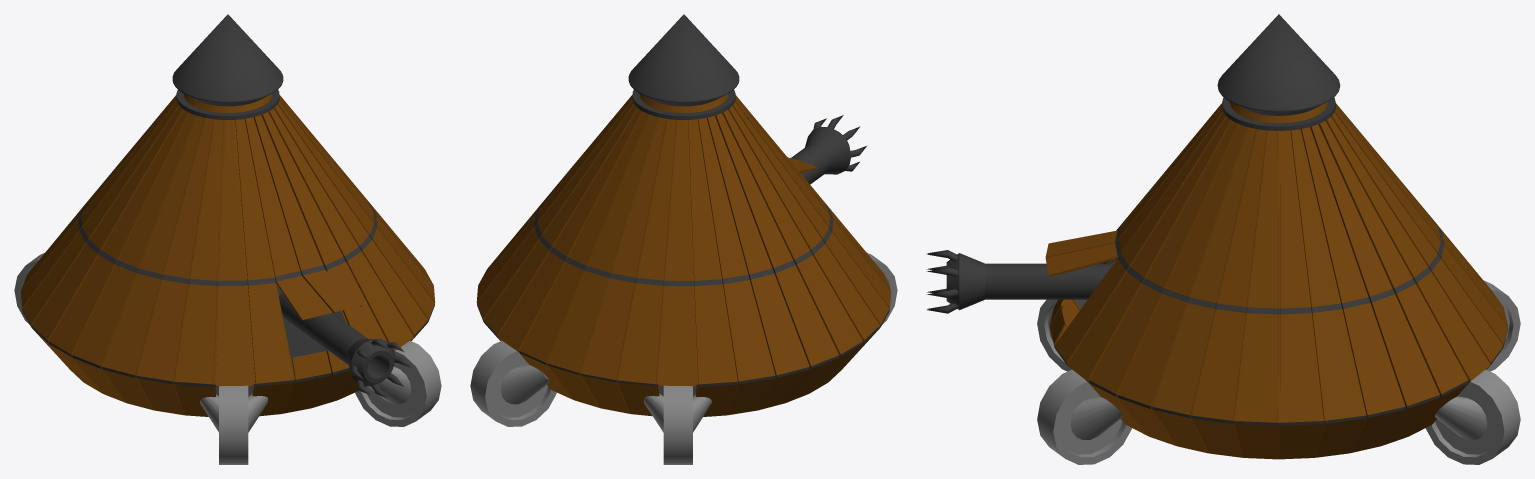
The model's file is Tank.fbx.
3 views of the same model, side by side, from view 1: azimuth 30°, elevation 25°; view 2: azimuth 150°, elevation 25°; view 3: azimuth 270°, elevation 25° (orthographic). The views are drawn at different scales.
Parts seen in each view (by area): view 1: Tank_body, Tank_cannon; view 2: Tank_body, Tank_cannon; view 3: Tank_body, Tank_cannon.
Boxes of the visible parts, box(x1,y1,x2,y2) form: Tank_body: box(14, 14, 441, 464); Tank_cannon: box(279, 292, 410, 398); Tank_body: box(470, 14, 897, 464); Tank_cannon: box(791, 115, 866, 184); Tank_body: box(1037, 14, 1520, 464); Tank_cannon: box(926, 250, 1113, 313).
Size of the model in its own units: 160 by 154 by 208.
